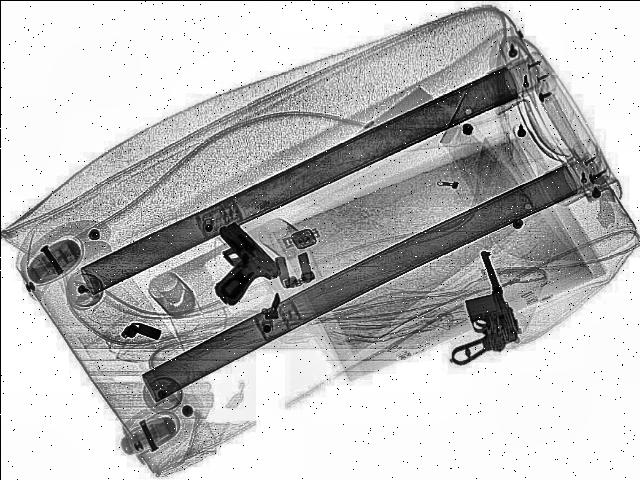Gun: (418, 248, 528, 366), (170, 218, 294, 306)
